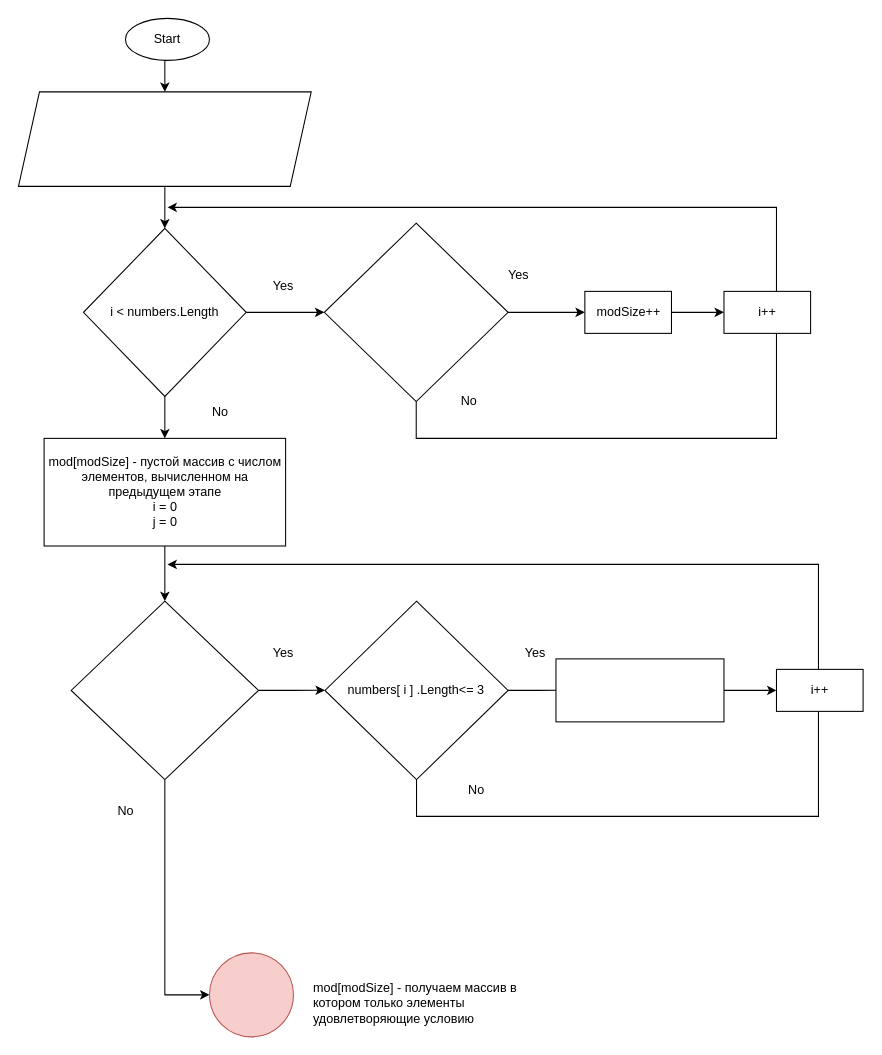
Image size: 882x1055. Some labels were removed from this diagram. The centre of each missing label's shape, as x and y in pixels:
"i < numbers.lenght" belongs at (x=164, y=690).
"mod[ j ] = numbers[ i ] j++" belongs at (x=639, y=690).
"numbers[ i ] .Length <= 3" belongs at (x=415, y=312).
"numbers[] - массив задается на старте modSize = 0 i = 0" belongs at (x=164, y=138).
